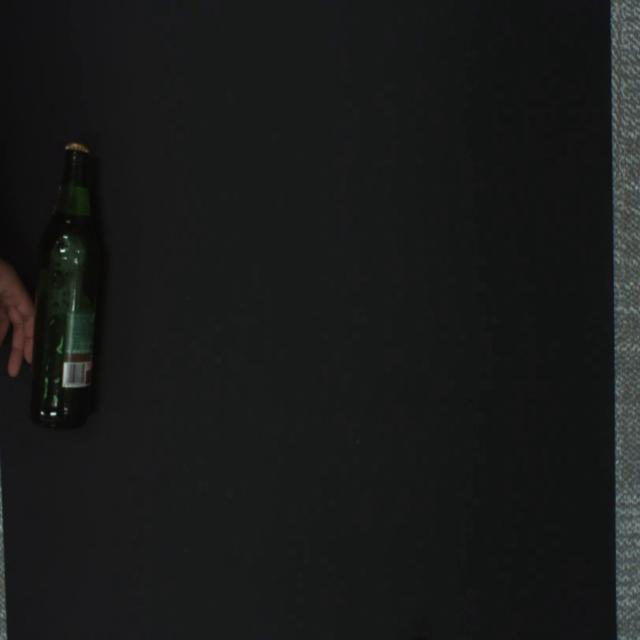beer-bottle: (29, 142, 101, 429)
